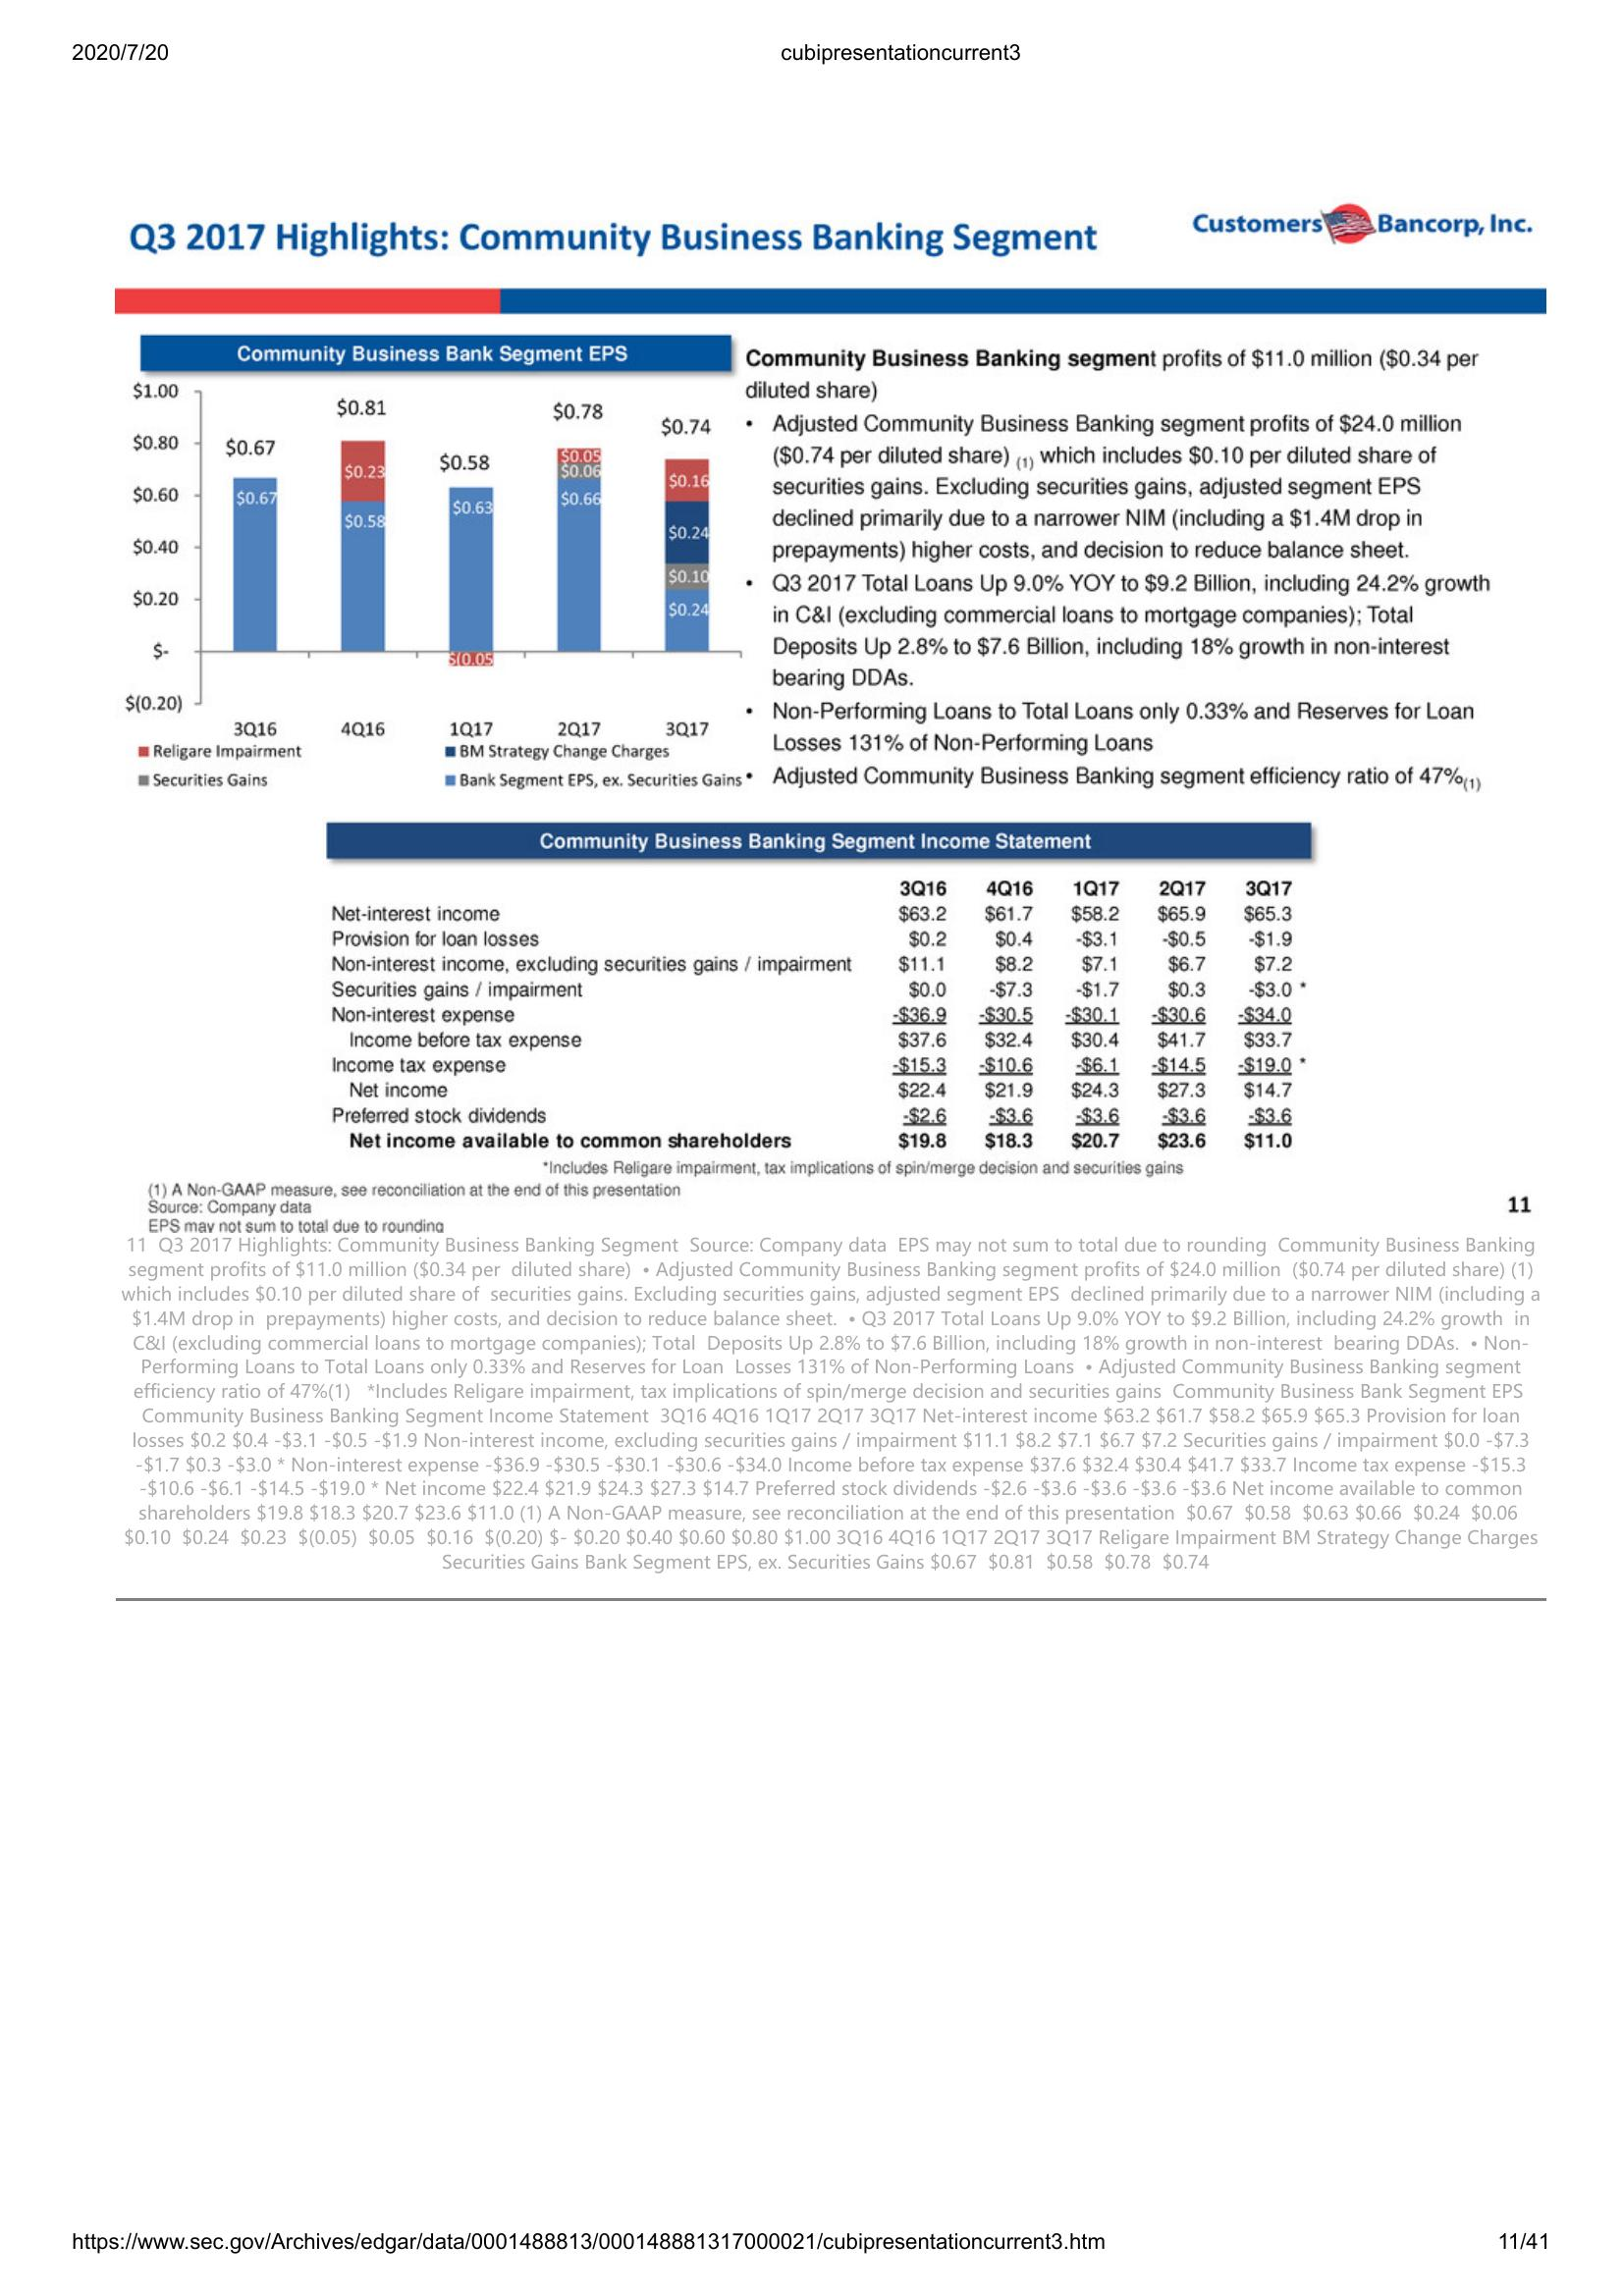table: (314, 816, 1317, 1159)
